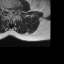CCS_normal: (8, 7, 11, 16)
LFS_stenosis: (13, 7, 16, 13)
LLS_normal: (11, 7, 13, 15)
RFS_normal: (4, 6, 7, 13)
RLS_normal: (7, 7, 8, 14)
